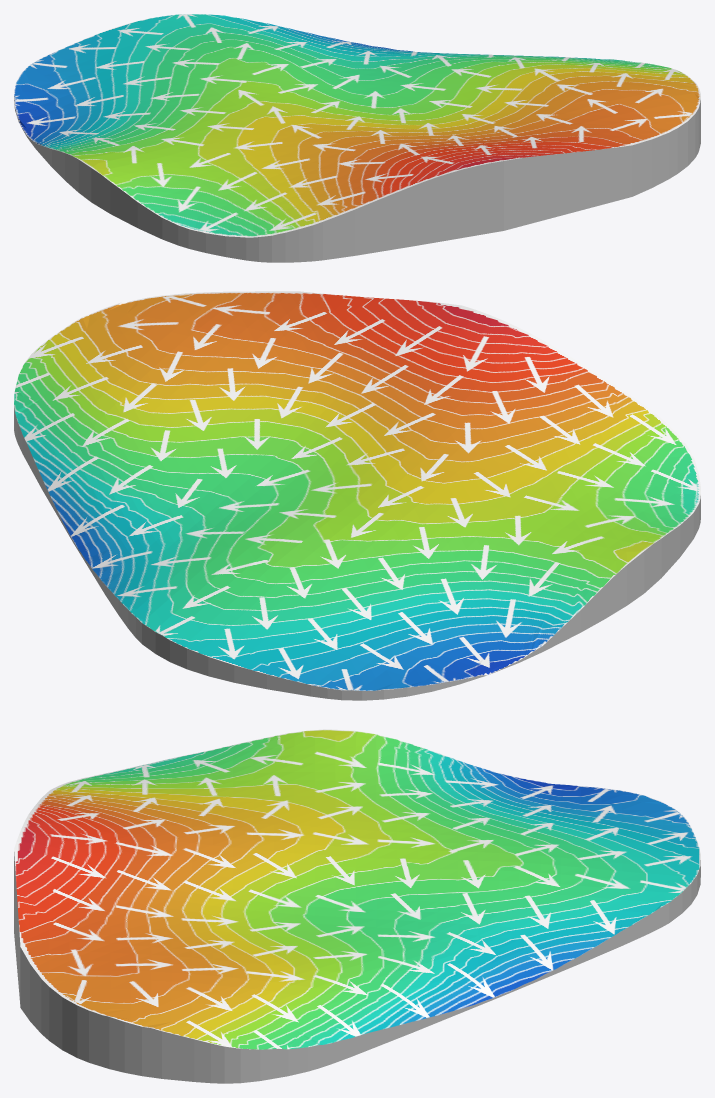
The picture shows the model from 3 angles, top to bottom: view 1: azimuth 30°, elevation 25°; view 2: azimuth 150°, elevation 25°; view 3: azimuth 270°, elevation 25°; orthographic projection. The views are drawn at different scales.
Bounding box in the file's own units: 5.64 × 0.6946 × 5.22.
Materials: 2 (1 with a texture image).
